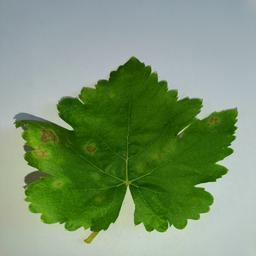Powdery-Mildew: (134, 141, 179, 177), (23, 127, 57, 163), (206, 112, 223, 129), (80, 142, 97, 159), (53, 175, 70, 192), (39, 202, 56, 218)
